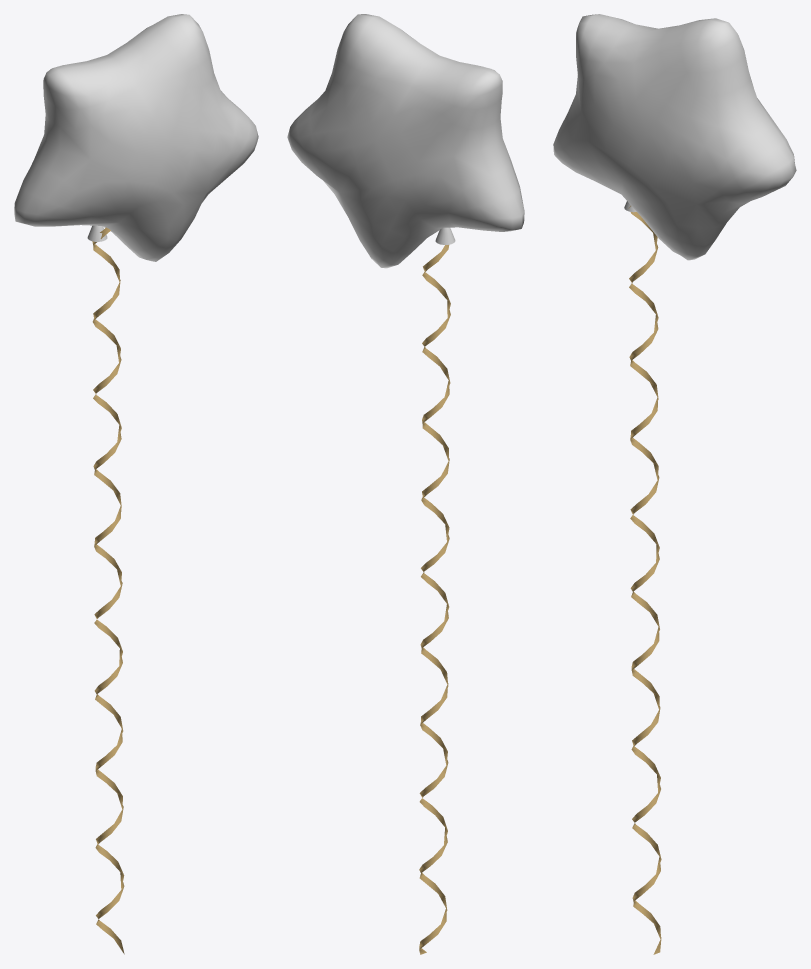
File: globoestrella1.fbx
3 views of the same model, side by side, from view 1: azimuth 30°, elevation 25°; view 2: azimuth 150°, elevation 25°; view 3: azimuth 330°, elevation 25° (orthographic). The views are drawn at different scales.
Visible parts, largest first — view 1: pPlane71, sweep5; view 2: pPlane71, sweep5; view 3: pPlane71, sweep5.
Part boxes in pixels (<box>): pPlane71: <box>14,14,258,261</box>; sweep5: <box>92,227,124,954</box>; pPlane71: <box>287,14,524,268</box>; sweep5: <box>419,245,450,954</box>; pPlane71: <box>553,14,796,260</box>; sweep5: <box>628,206,661,954</box>.
Bounding box in the file's own units: 2.98 × 11.15 × 1.27.
